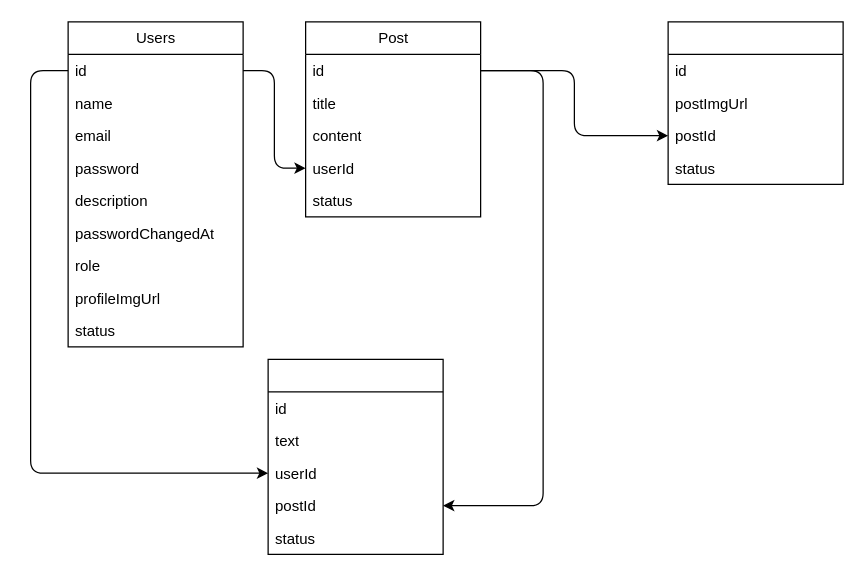
Some shapes in this 865 by 580 pixel diagram are drawn without their labels. Each missing label, with the box of its shape:
comments: (267, 358, 443, 554)
PostImgs: (667, 21, 843, 184)
